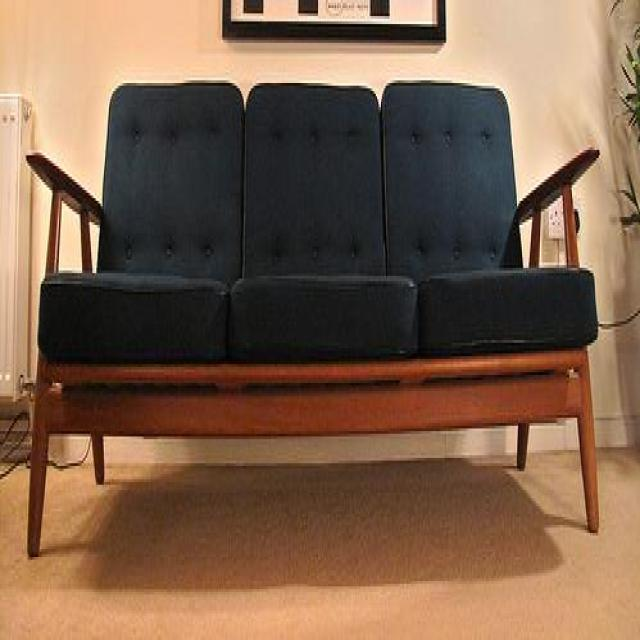sofa: (24, 79, 602, 536)
